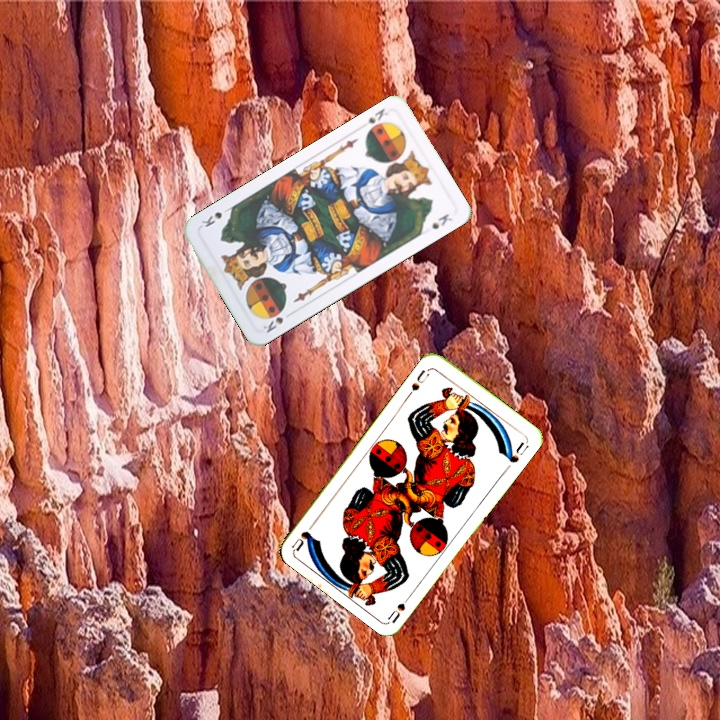SK: (259, 305, 295, 336), (363, 104, 391, 126)
SU: (384, 588, 415, 625), (404, 364, 433, 399)
